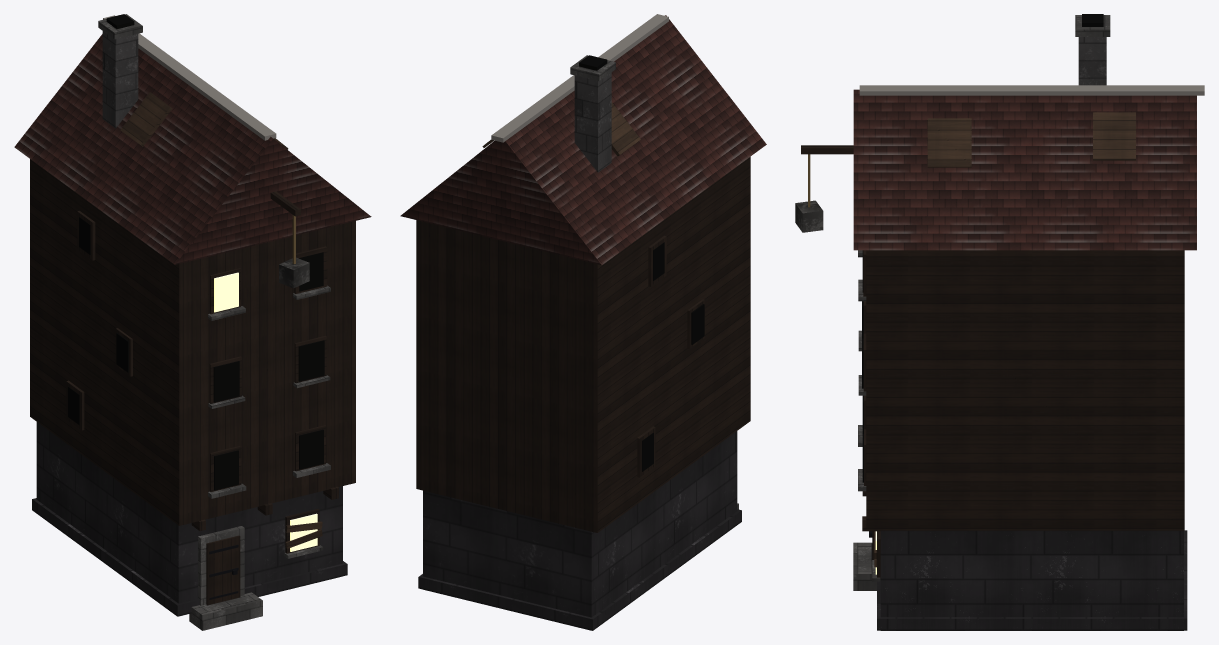
Rendered from CasaS06.gltf.
3 views of the same model, side by side, from view 1: azimuth 30°, elevation 25°; view 2: azimuth 150°, elevation 25°; view 3: azimuth 270°, elevation 25° (orthographic). The views are drawn at different scales.
Visible parts, largest first — view 1: CasaS06; view 2: CasaS06; view 3: CasaS06.
Part boxes in pixels (box(x1,y1,x2,y2)): CasaS06: box(14, 14, 371, 630); CasaS06: box(400, 14, 766, 630); CasaS06: box(795, 14, 1204, 630).
Bounding box in the file's own units: 6.25 × 15.84 × 10.56.
Materials: 12 (7 with a texture image).
